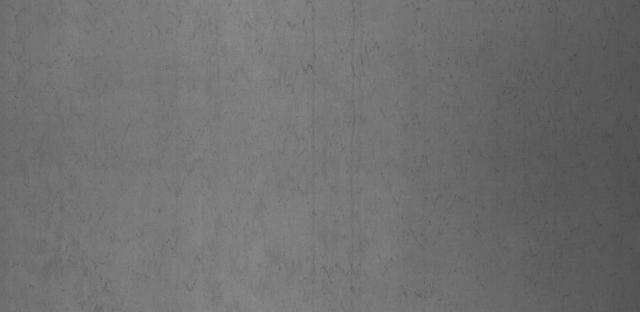silk_spot: (8, 14, 212, 296), (241, 24, 428, 209), (240, 217, 435, 308)
